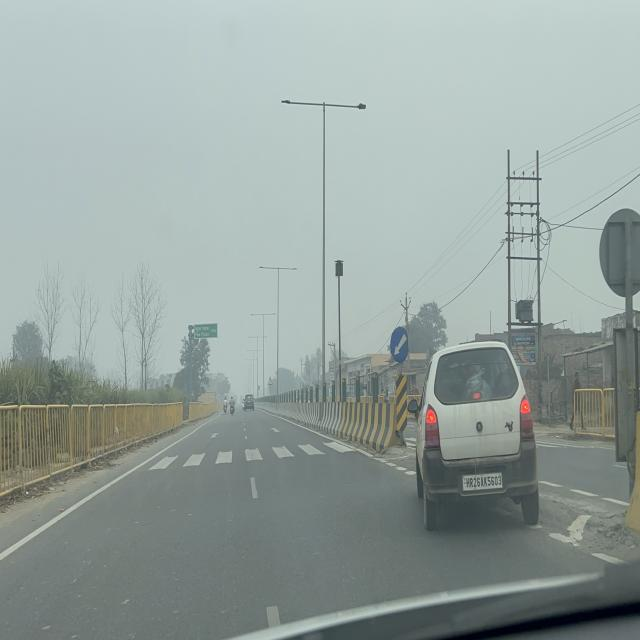GENERAL: (194, 322, 218, 340)
KEEP_LEFT: (390, 326, 409, 364)
